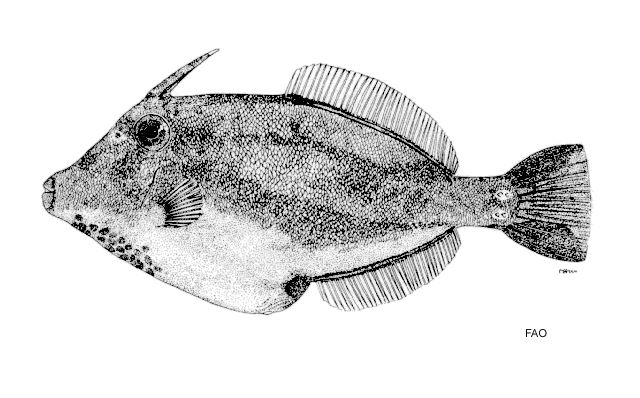fish: (41, 49, 592, 313)
